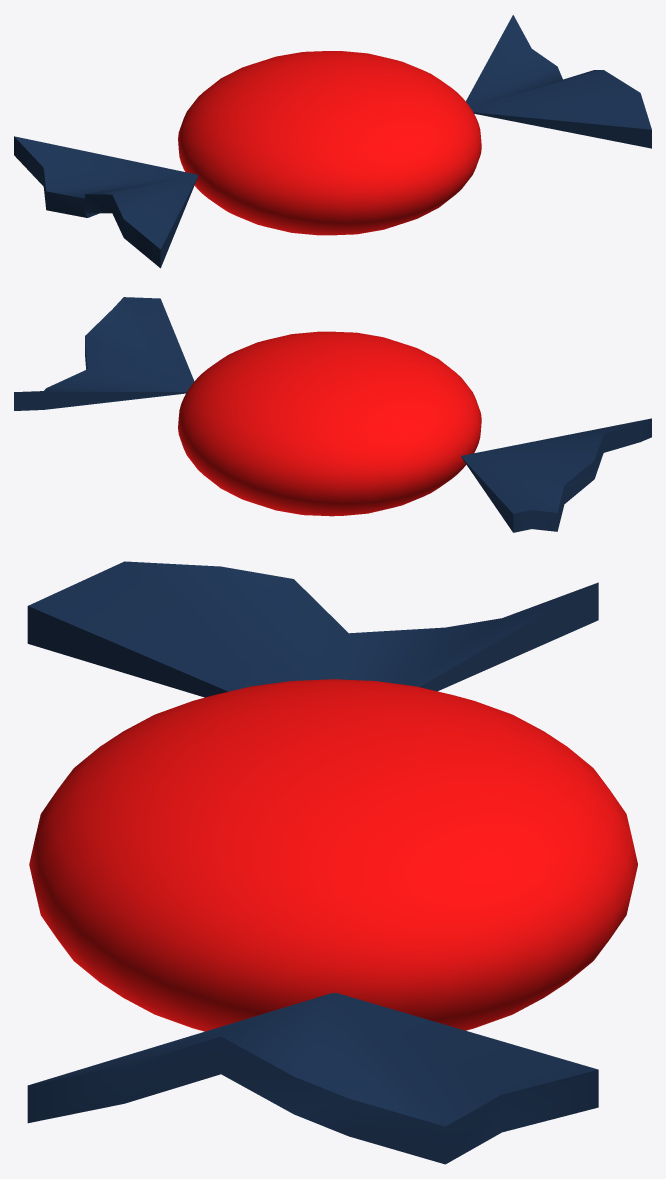
File: candy2.fbx
3 renders of one model, top to bottom at view 1: azimuth 30°, elevation 25°; view 2: azimuth 150°, elevation 25°; view 3: azimuth 270°, elevation 25°, orthographic. The views are drawn at different scales.
Parts seen in each view (by area): view 1: Box001; view 2: Box001; view 3: Box001.
Part boxes in pixels (left/top/right/bottom): Box001: left=14, top=15, right=651, bottom=268; Box001: left=14, top=297, right=651, bottom=532; Box001: left=27, top=561, right=637, bottom=1164.
Size of the model in its own units: 166 by 84.64 by 40.86.
